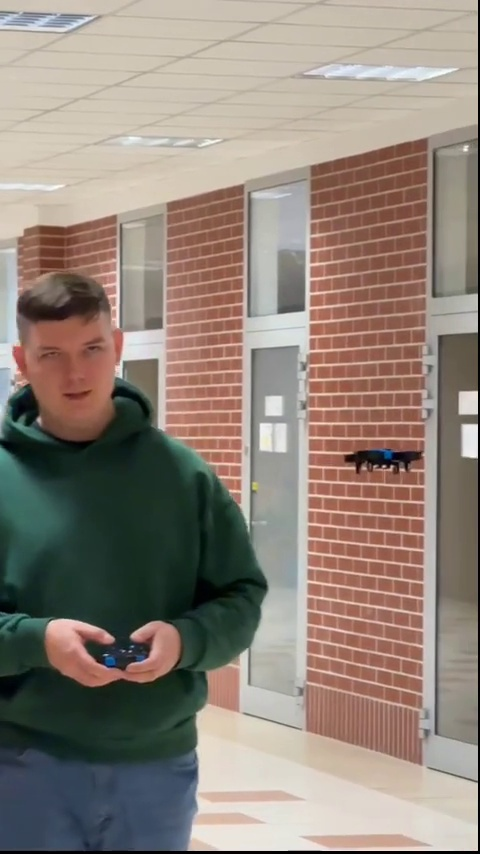drone: (338, 445, 425, 478)
no vest: (0, 266, 282, 826)
